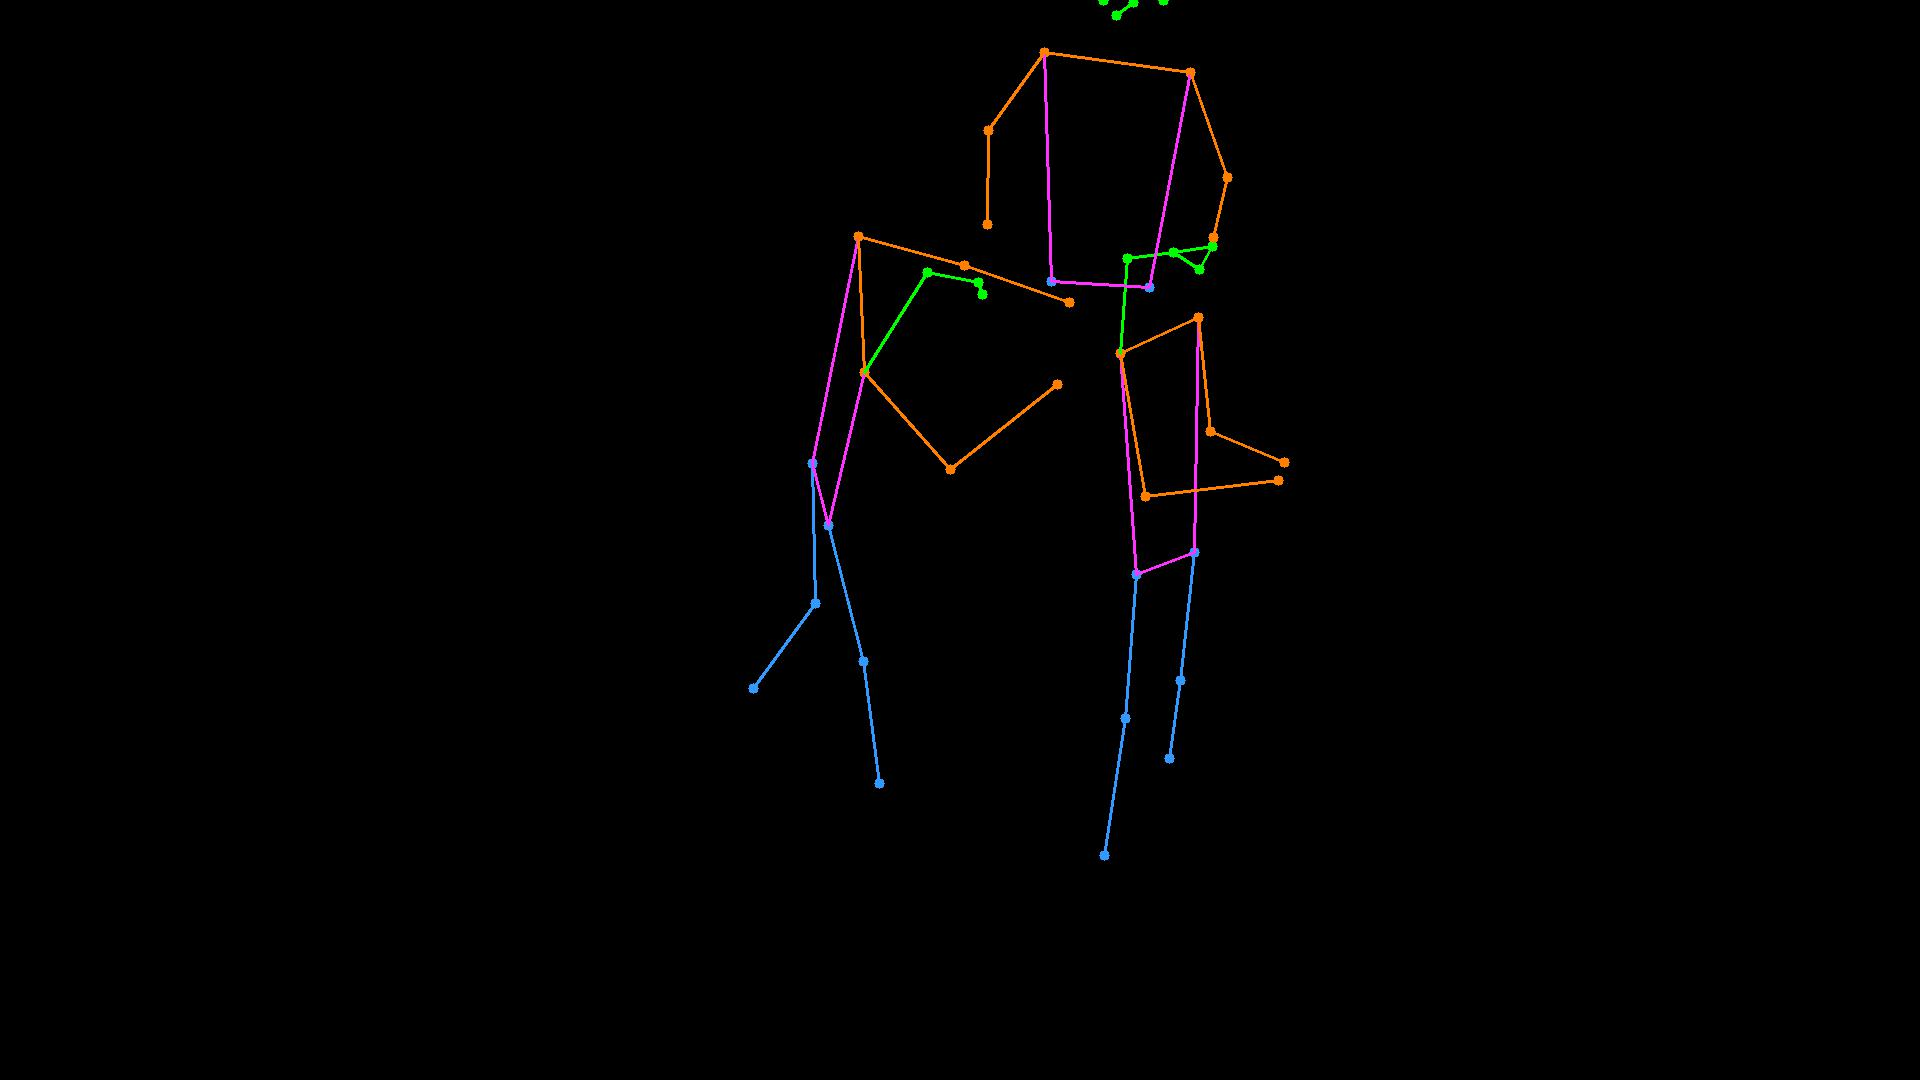normal: (717, 1, 1333, 903)
